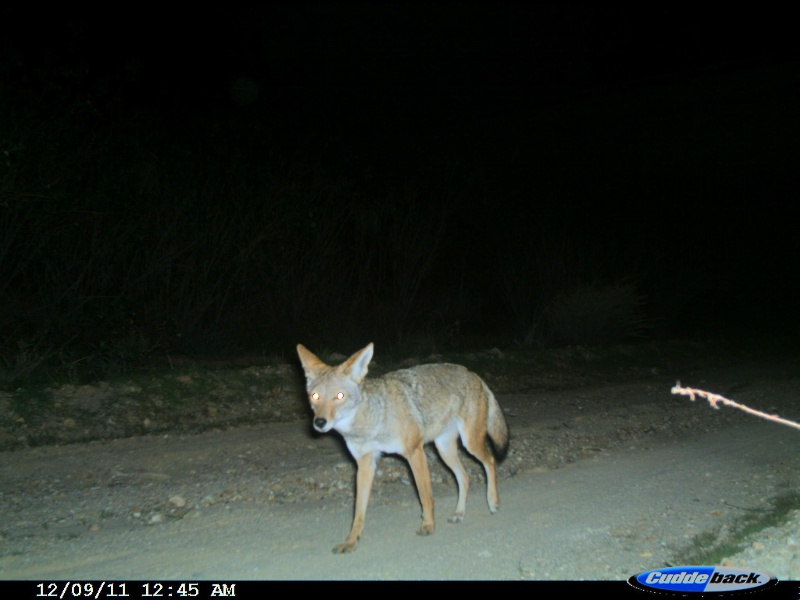coyote: (293, 339, 514, 556)
